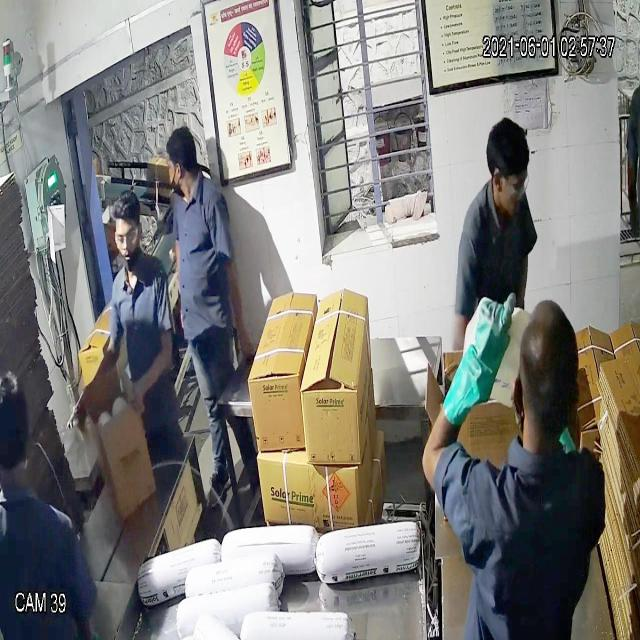glasses: (110, 220, 148, 254)
